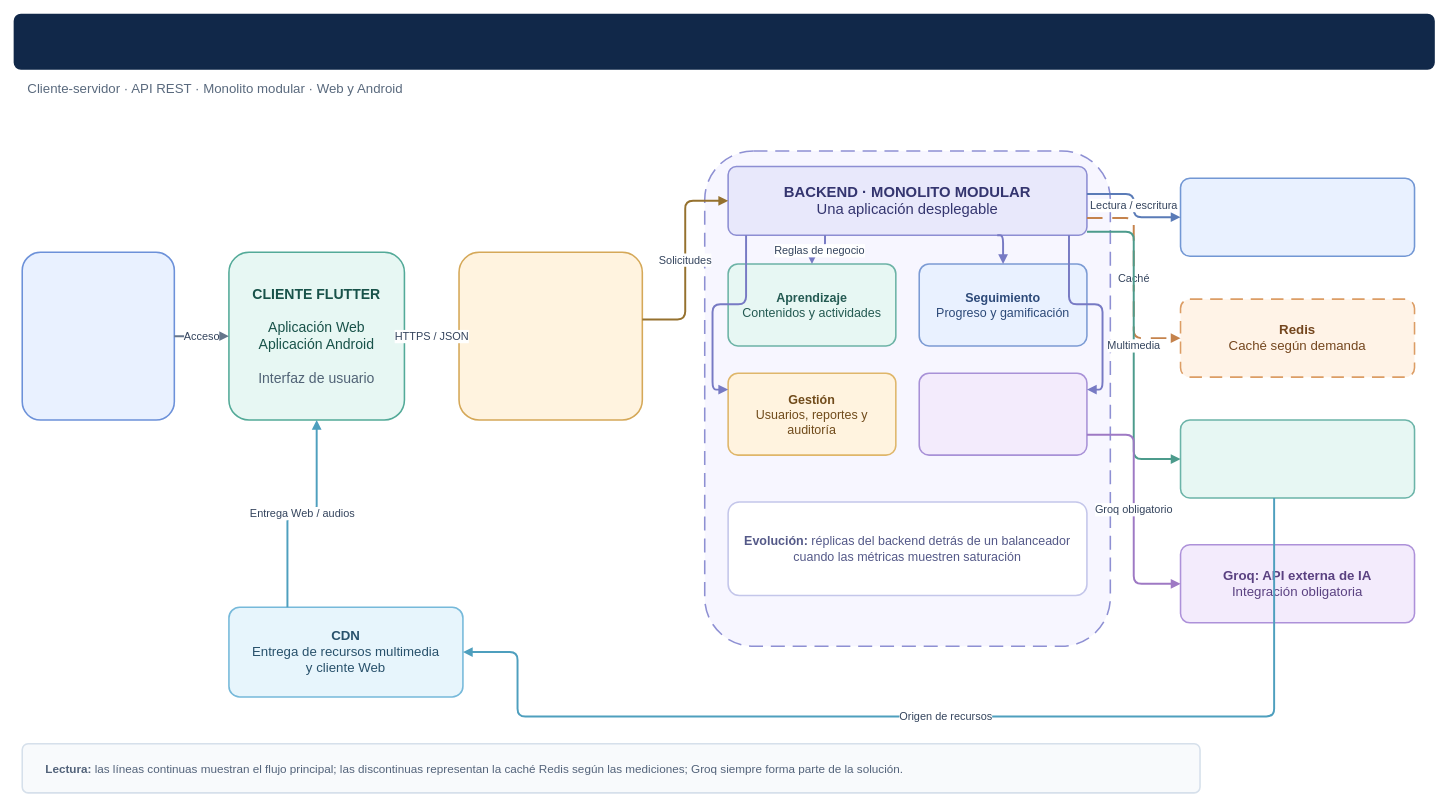
Some shapes in this 1448 by 807 pixel diagram are drawn without their labels. Each missing label, with the box of its shape:
Almacenamiento de objetos Audios e imágenes: (1179, 419, 1415, 498)
API REST HTTPS Entrada a servicios Control de acceso: (458, 251, 643, 420)
APU GO | Estilo arquitectónico: (13, 13, 1434, 69)
PostgreSQL Datos transaccionales: (1179, 177, 1415, 257)
Tutor IA y recomendaciones Groq obligatorio: (918, 372, 1087, 456)
USUARIOS Estudiantes Docentes Administradores: (21, 251, 175, 420)
